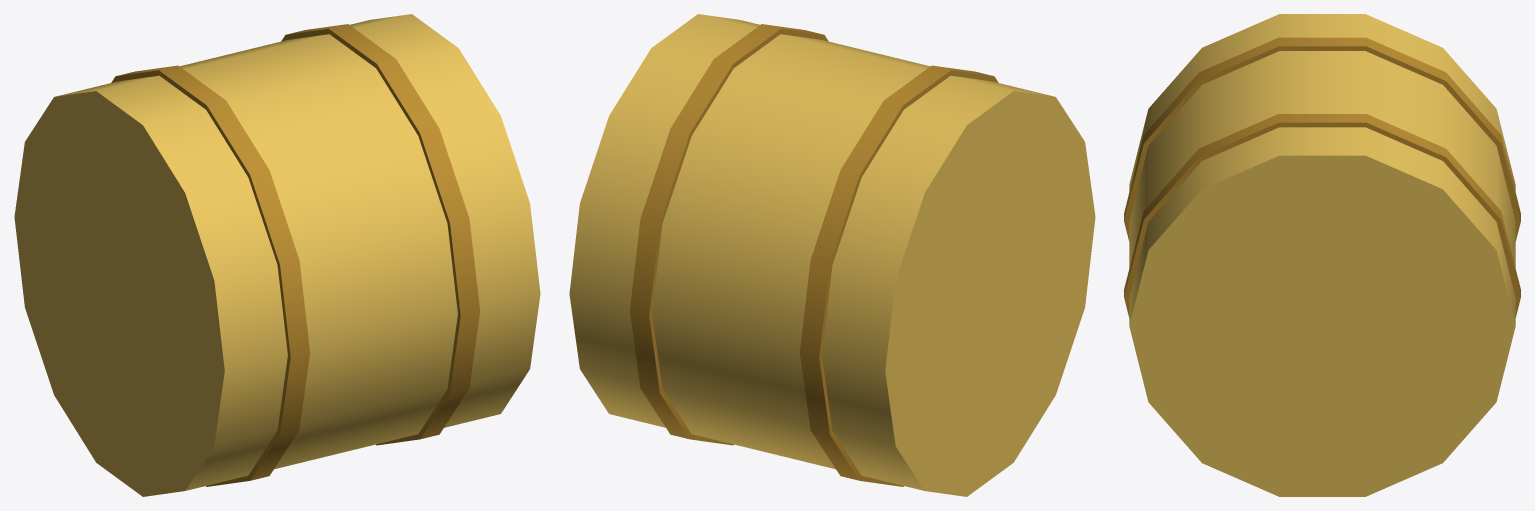
Rendered from hay-bale.glb.
The picture shows the model from 3 angles, left to right: view 1: azimuth 30°, elevation 25°; view 2: azimuth 150°, elevation 25°; view 3: azimuth 270°, elevation 25°; orthographic projection. The views are drawn at different scales.
Visible parts, largest first — view 1: hay-bale; view 2: hay-bale; view 3: hay-bale.
Boxes of the visible parts, x1,y1,x2,y2 form: hay-bale: (14, 14, 540, 496); hay-bale: (569, 14, 1095, 496); hay-bale: (1124, 14, 1520, 496).
Bounding box in the file's own units: 1.3 × 1.5 × 1.54.
